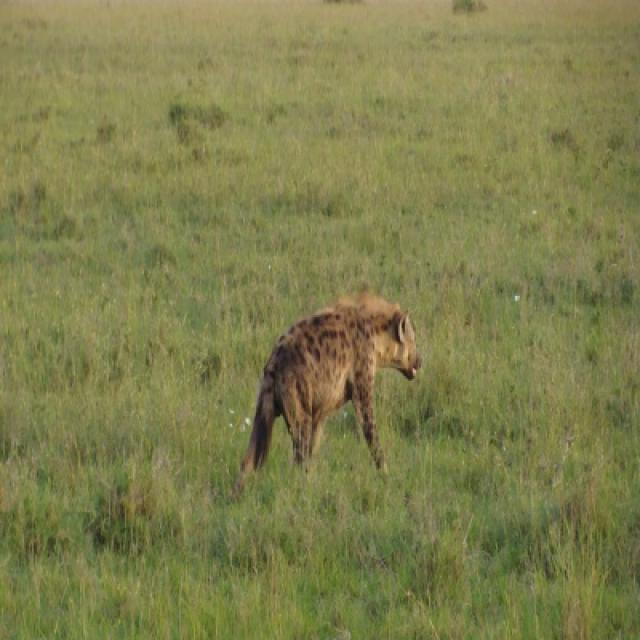hyena: (240, 291, 422, 485)
